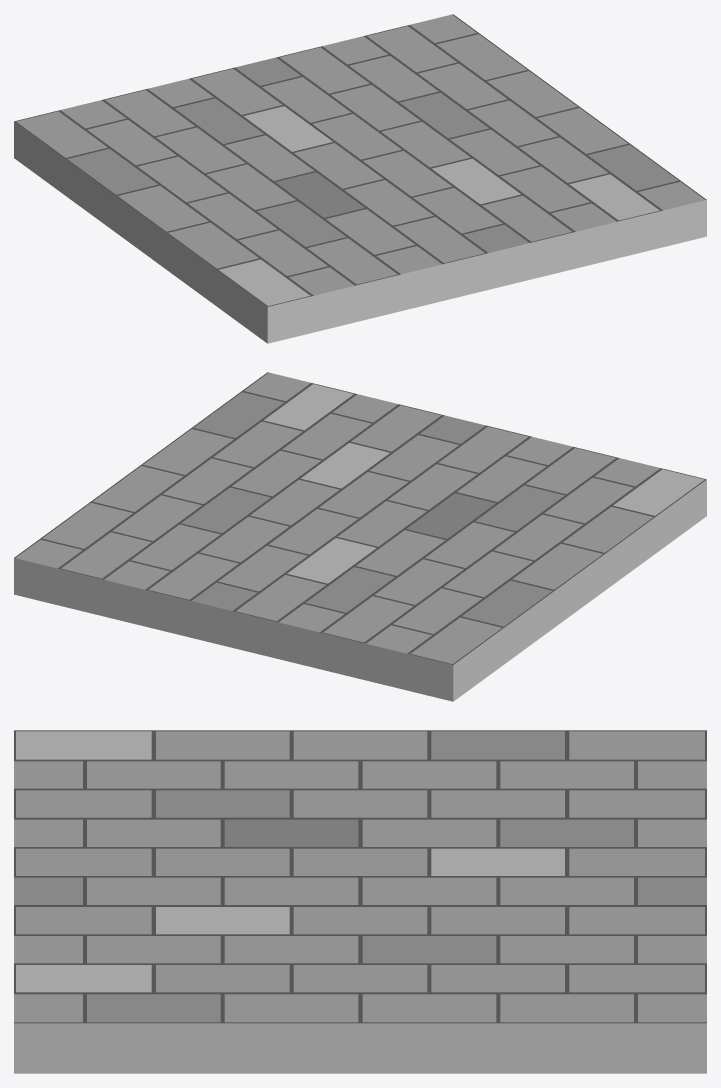
File: Floor14_01.fbx
3 views of the same model, one above another, from view 1: azimuth 30°, elevation 25°; view 2: azimuth 150°, elevation 25°; view 3: azimuth 270°, elevation 25° (orthographic). The views are drawn at different scales.
Parts seen in each view (by area): view 1: Floor14_01; view 2: Floor14_01; view 3: Floor14_01.
Part boxes in pixels (x1,y1,x2,y2): Floor14_01: (14, 14, 706, 343); Floor14_01: (14, 372, 706, 701); Floor14_01: (14, 730, 706, 1073).
Bounding box in the file's own units: 250 × 20 × 250.
